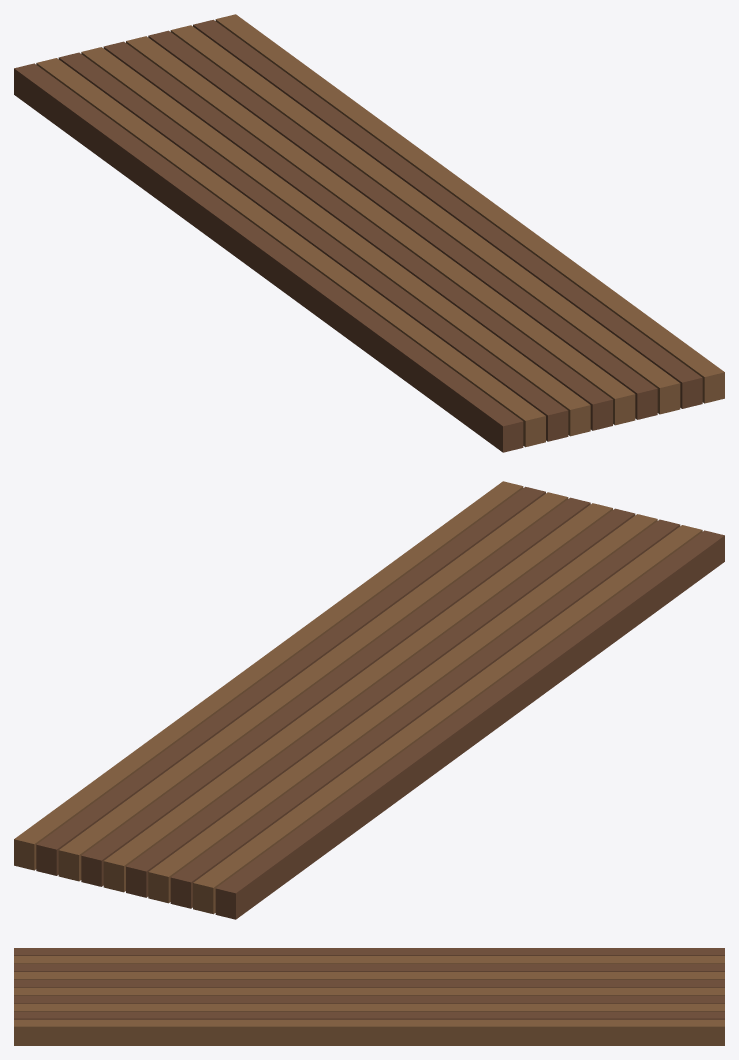
File: env_bridge_deck.glb
The picture shows the model from 3 angles, top to bottom: view 1: azimuth 30°, elevation 25°; view 2: azimuth 150°, elevation 25°; view 3: azimuth 270°, elevation 25°; orthographic projection. The views are drawn at different scales.
Parts seen in each view (by area): view 1: ENV_Bridge_Deck; view 2: ENV_Bridge_Deck; view 3: ENV_Bridge_Deck.
Part boxes in pixels (left/top/right/bottom): ENV_Bridge_Deck: left=14, top=14, right=724, bottom=452; ENV_Bridge_Deck: left=14, top=481, right=724, bottom=919; ENV_Bridge_Deck: left=14, top=948, right=724, bottom=1045.
Bounding box in the file's own units: 2.2 × 0.25 × 8.4.
